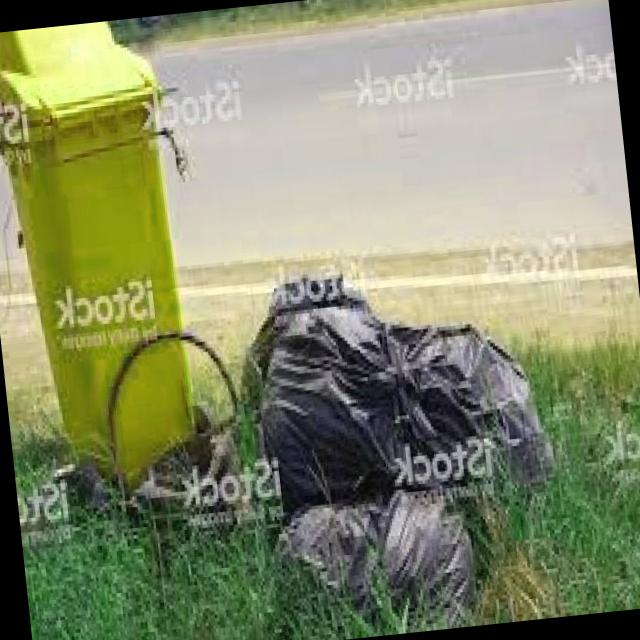high trash: (135, 277, 550, 630)
